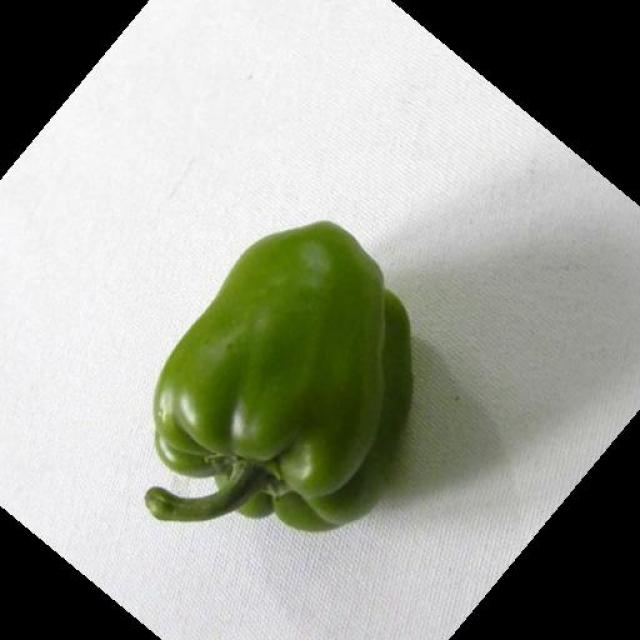Fresh_Capsicum: (138, 195, 450, 573)
